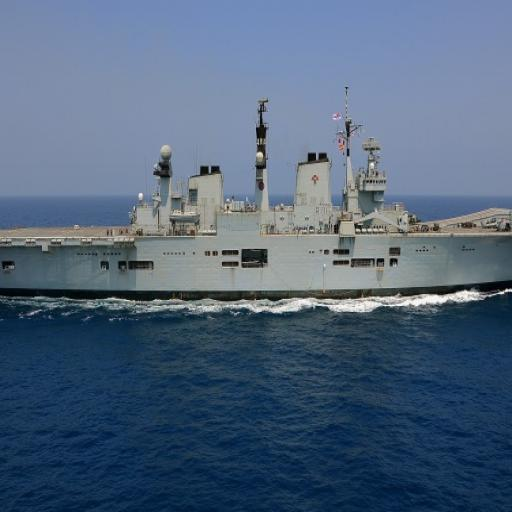Portanaves: (1, 83, 512, 329)
